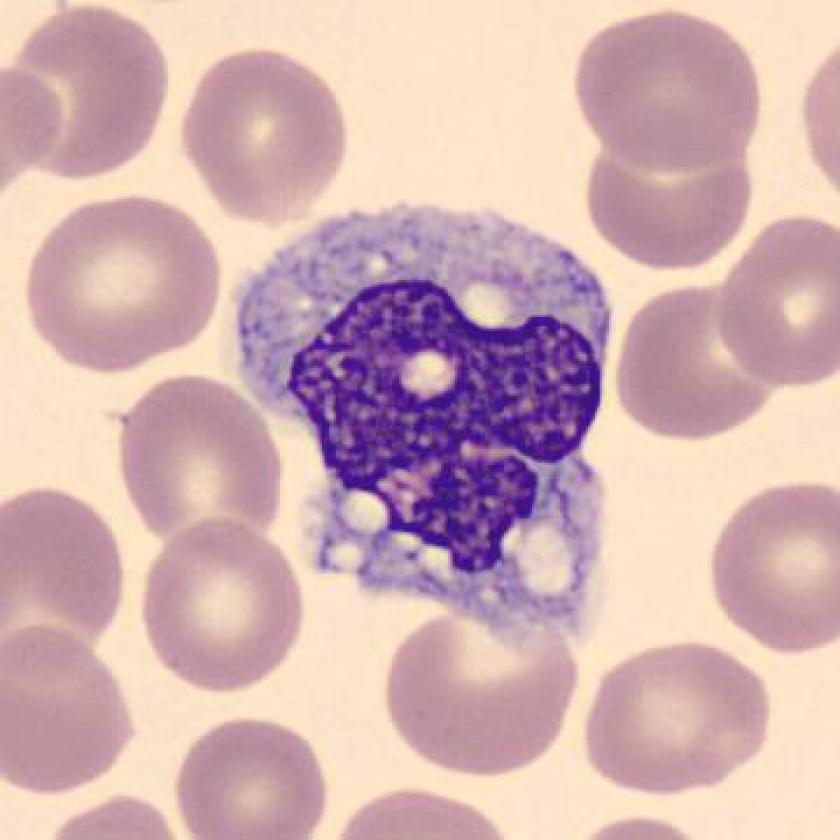monocyte: (216, 184, 650, 677)
